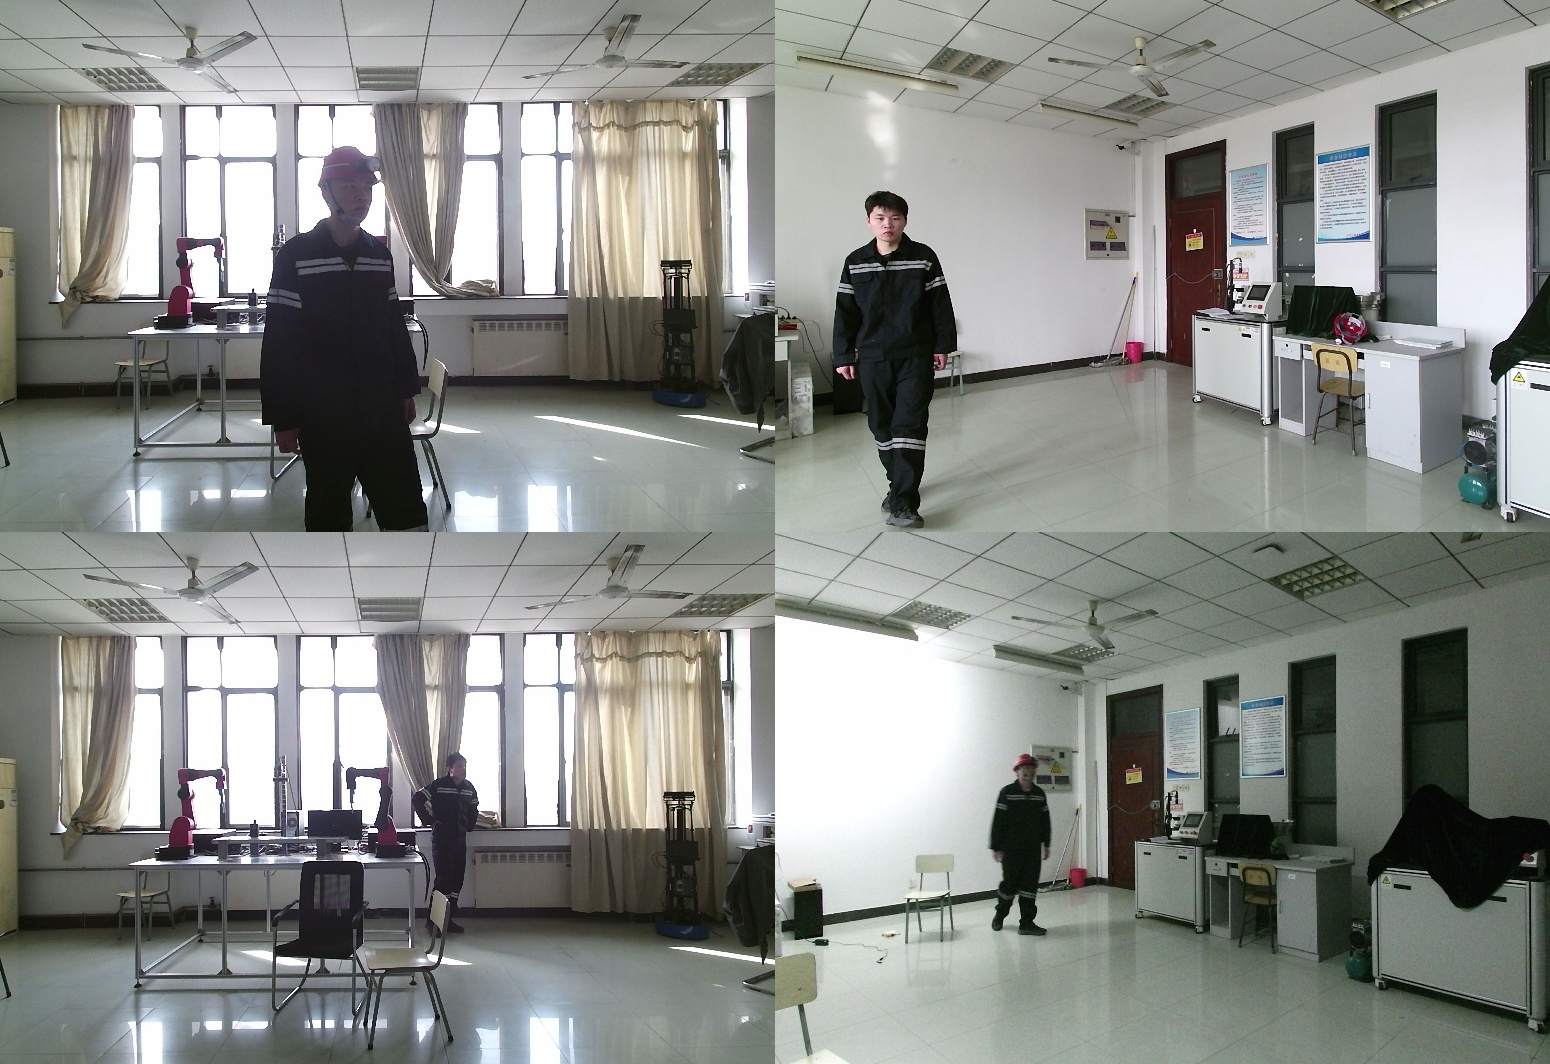person: (269, 148, 438, 532), (830, 188, 964, 532), (980, 756, 1045, 948), (413, 755, 479, 943)
